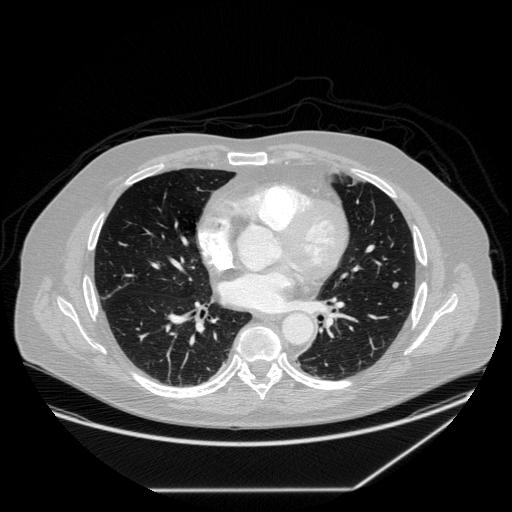nodule: (389, 279, 401, 291)
